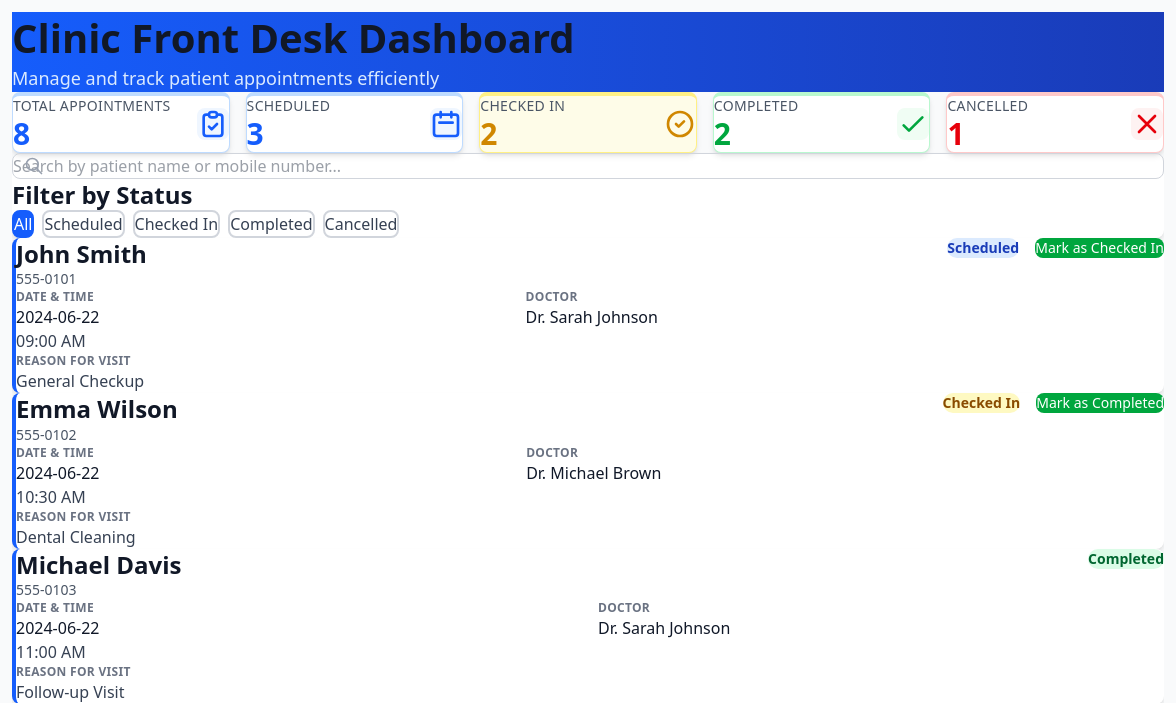
Test: Dashboard page › filters appointments by status using filter buttons
Step 1. Click the button "Completed" → [271, 224], box [228,210,315,238]
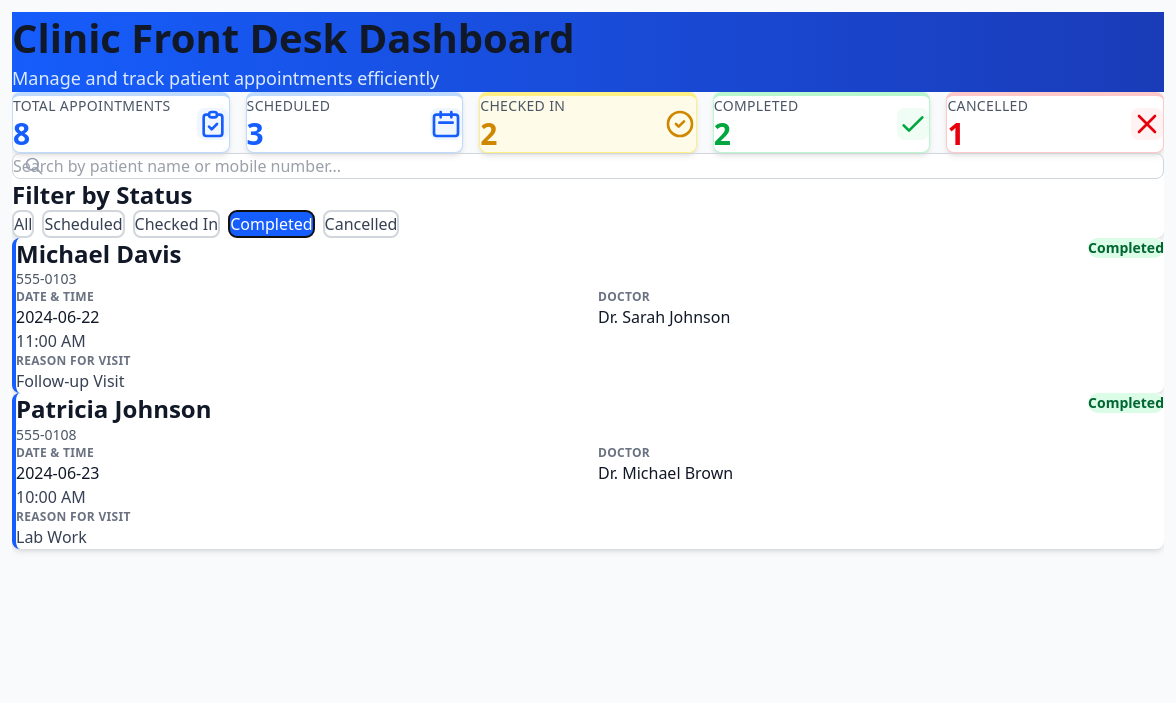
Expected: the heading "Michael Davis" is shown, [16,238,182,269]
Now the heading "John Smith" is gone
